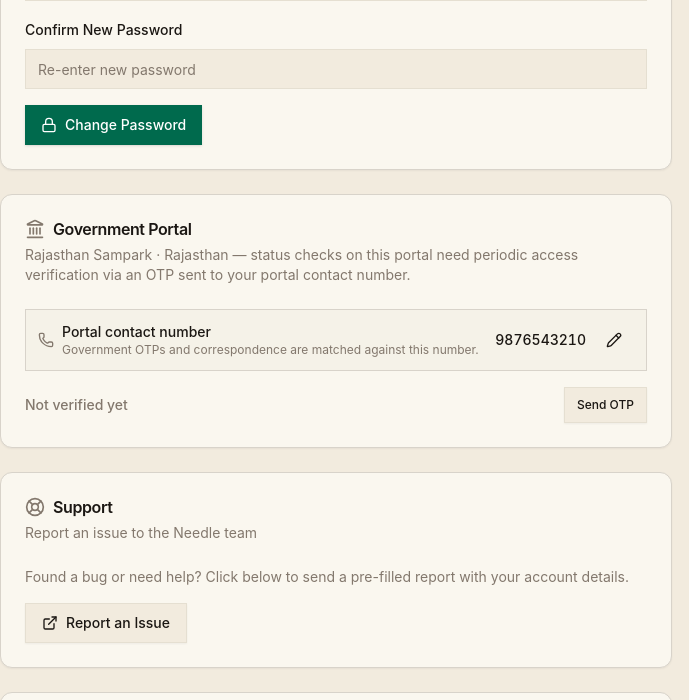
Test case: Government portal contact number — editing an existing number › cancel restores the saved number and closes the editor
(page scrolled)
Expected: the heading "Government Portal" is shown, 53,221 -> 192,237
Expected: the text "9876543210" is shown, 495,330 -> 586,350
Click the 2nd button at (614, 340), box 594,322 -> 634,358
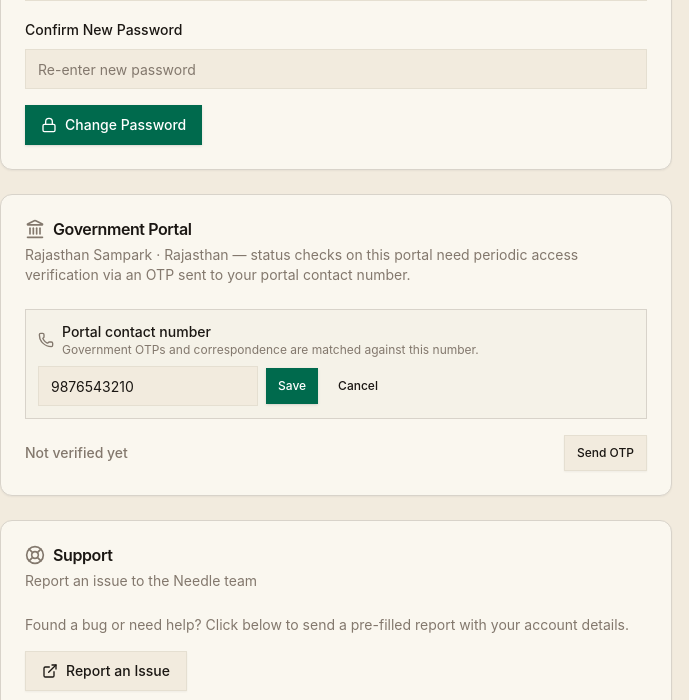
Replace the text in the field with placeholder "10-digit mobile number" with "999" at (148, 386), box 38,366 -> 258,406
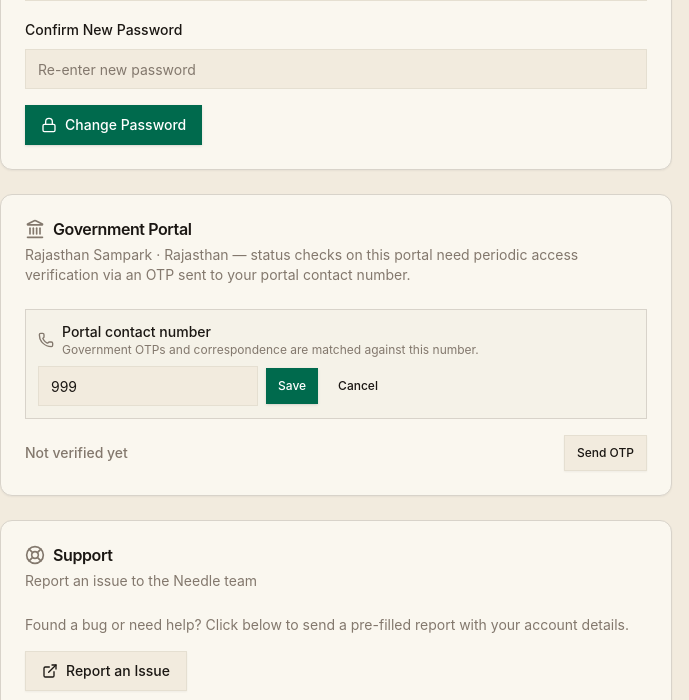
Click the button "Cancel" at (358, 386), box 326,368 -> 390,404
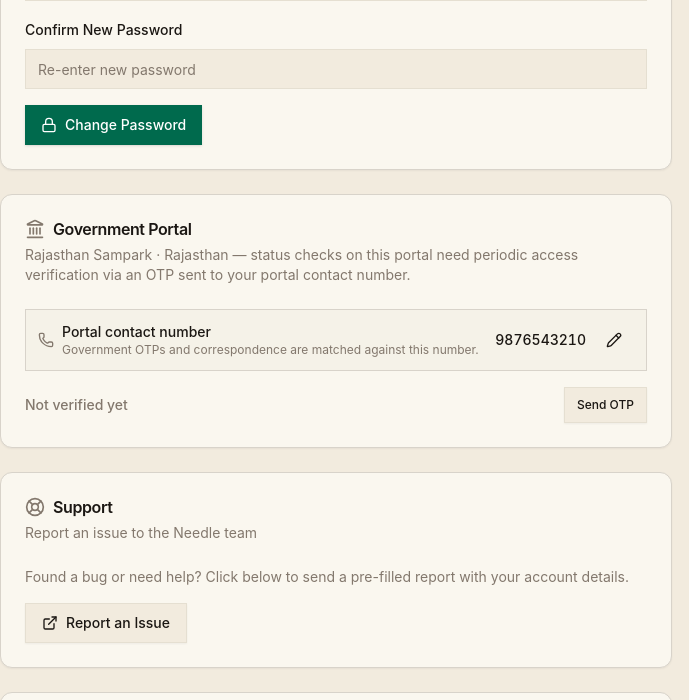
Expected: the text "9876543210" is shown, 495,330 -> 586,350
